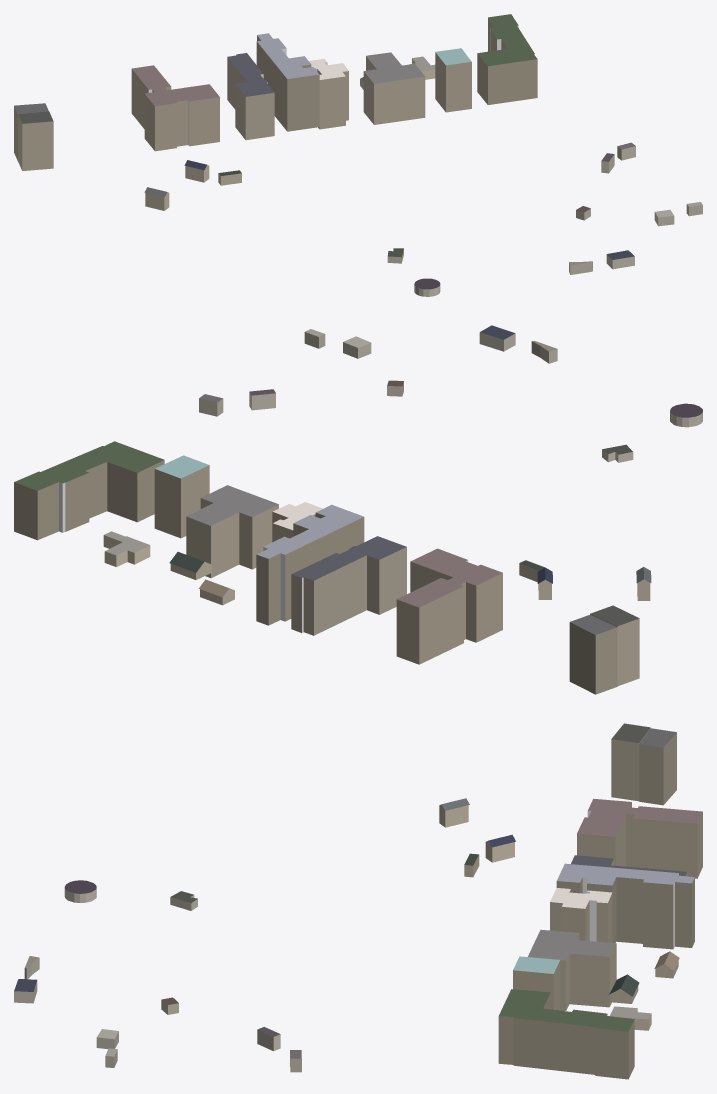
The picture shows the model from 3 angles, top to bottom: view 1: azimuth 30°, elevation 25°; view 2: azimuth 150°, elevation 25°; view 3: azimuth 270°, elevation 25°; orthographic projection. The views are drawn at different scales.
Parts seen in each view (by area): view 1: tuile; view 2: tuile; view 3: tuile.
Boxes of the visible parts, bbox=[...] form: tuile: bbox=[14, 14, 702, 296]; tuile: bbox=[14, 325, 702, 694]; tuile: bbox=[14, 723, 702, 1079].
Size of the model in its own units: 267 by 29.83 by 264.
